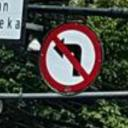NoVirarEsquerda: (37, 20, 105, 98)
